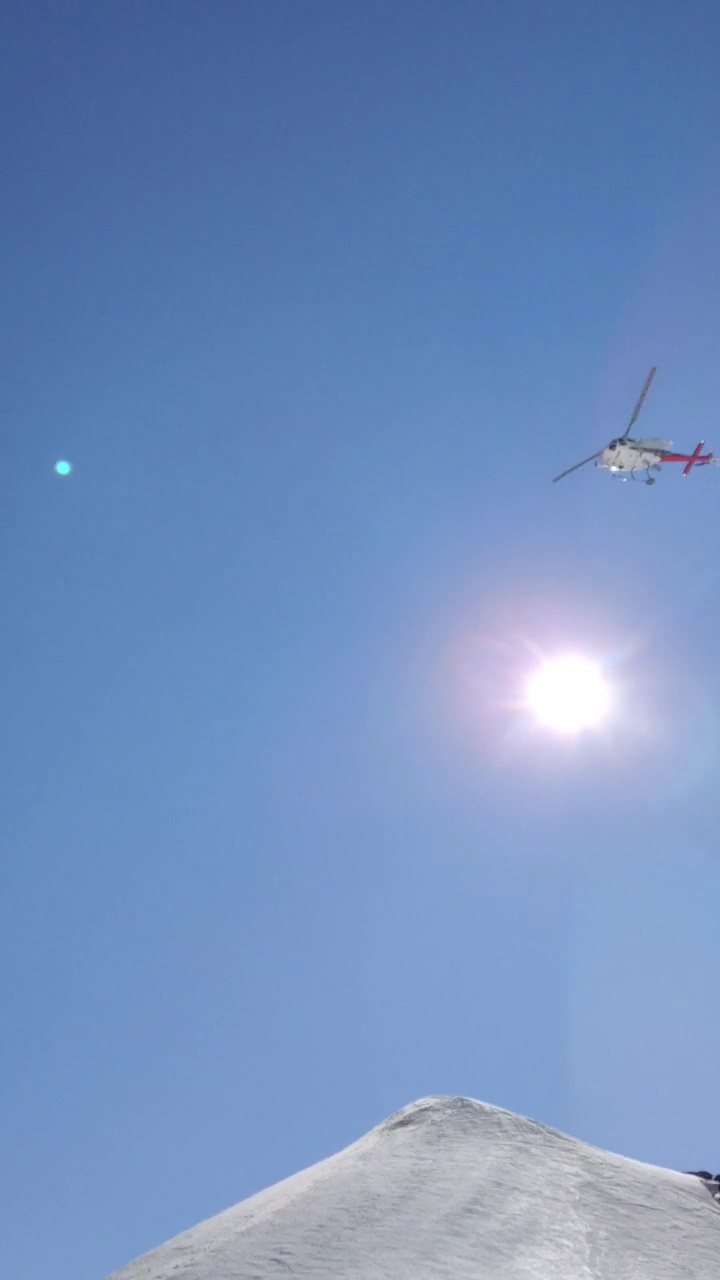heli: (549, 364, 717, 488)
